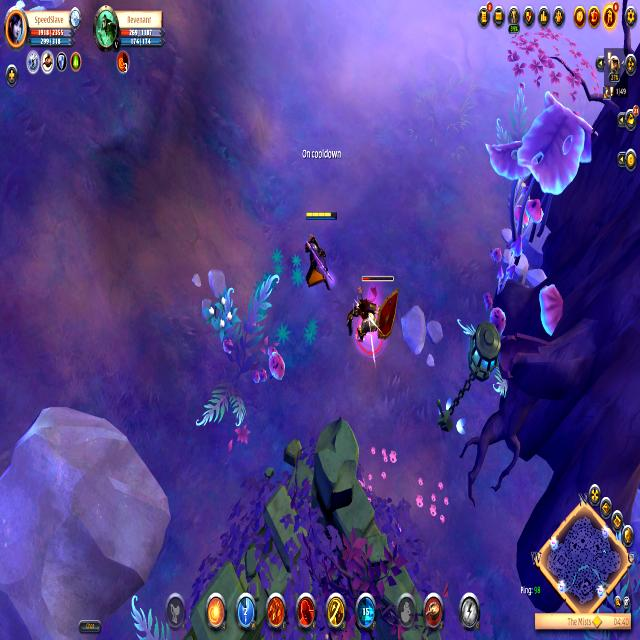ore: (347, 267, 401, 360)
red: (302, 203, 338, 296)
